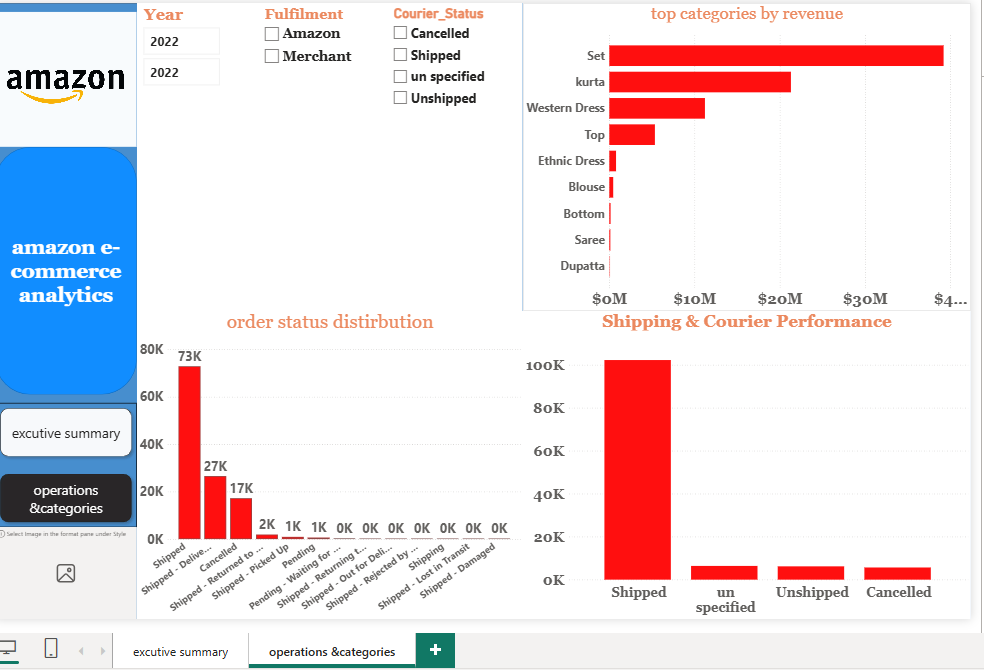

Layout of this report page (visuals, bound fields, positions):
{"tool":"powerbi","page":{"name":"operations &categories","canvas":[1900,1200],"ordinal":1},"visuals":[{"type":"clusteredBarChart","title":"top categories by revenue","fields":{"Category":["vw_Amazon_Sales_Clean.Category"],"Y":["all_ measures.Total Revenue"]},"box":[1028,0,872,600],"z":0},{"type":"clusteredColumnChart","title":"order status distirbution","fields":{"Category":["vw_Amazon_Sales_Clean.Status"],"Y":["all_ measures.Total Orders"]},"box":[276,600,752,600],"z":1000},{"type":"lineClusteredColumnComboChart","title":"Shipping & Courier Performance","fields":{"Category":["vw_Amazon_Sales_Clean.Courier_Status"],"Y":["all_ measures.Total Orders"]},"box":[1028,600,872,600],"z":2000},{"type":"slicer","fields":{"Values":["Dim_Date.Year"]},"box":[276,0,236,600],"z":3000},{"type":"slicer","fields":{"Values":["vw_Amazon_Sales_Clean.Fulfilment"]},"box":[512,0,252,600],"z":4000},{"type":"slicer","fields":{"Values":["vw_Amazon_Sales_Clean.Courier_Status"]},"box":[764,0,264,600],"z":5000},{"type":"pageNavigator","box":[0,778,276,242],"z":6000},{"type":"shape","box":[0,280,276,482],"z":8000},{"type":"image","box":[0,1020,276,180],"z":8001},{"type":"image","box":[0,0,276,280],"z":8002}]}

Visuals, with their boxes on the page's 1900x1200 design canvas (x1, y1, x2, y2). These are canvas units, not pixel positions in the 984x670 screenshot, which may show the page scaled, cropped or inside an application window:
"top categories by revenue" clusteredBarChart: <bbox>1028, 0, 1900, 600</bbox>
"order status distirbution" clusteredColumnChart: <bbox>276, 600, 1028, 1200</bbox>
"Shipping & Courier Performance" lineClusteredColumnComboChart: <bbox>1028, 600, 1900, 1200</bbox>
slicer - Dim_Date.Year: <bbox>276, 0, 512, 600</bbox>
slicer - vw_Amazon_Sales_Clean.Fulfilment: <bbox>512, 0, 764, 600</bbox>
slicer - vw_Amazon_Sales_Clean.Courier_Status: <bbox>764, 0, 1028, 600</bbox>
pageNavigator: <bbox>0, 778, 276, 1020</bbox>
shape: <bbox>0, 280, 276, 762</bbox>
image: <bbox>0, 1020, 276, 1200</bbox>
image: <bbox>0, 0, 276, 280</bbox>
